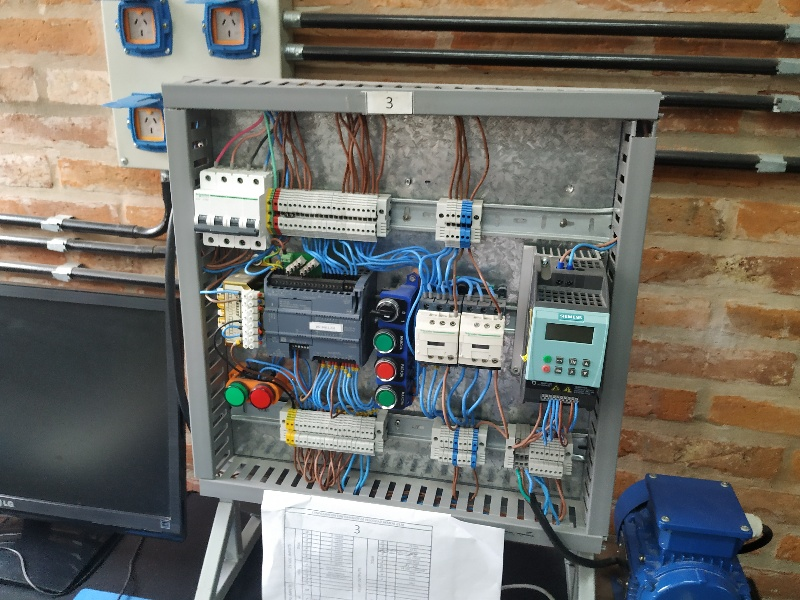Tablero 3: (179, 99, 614, 535)
